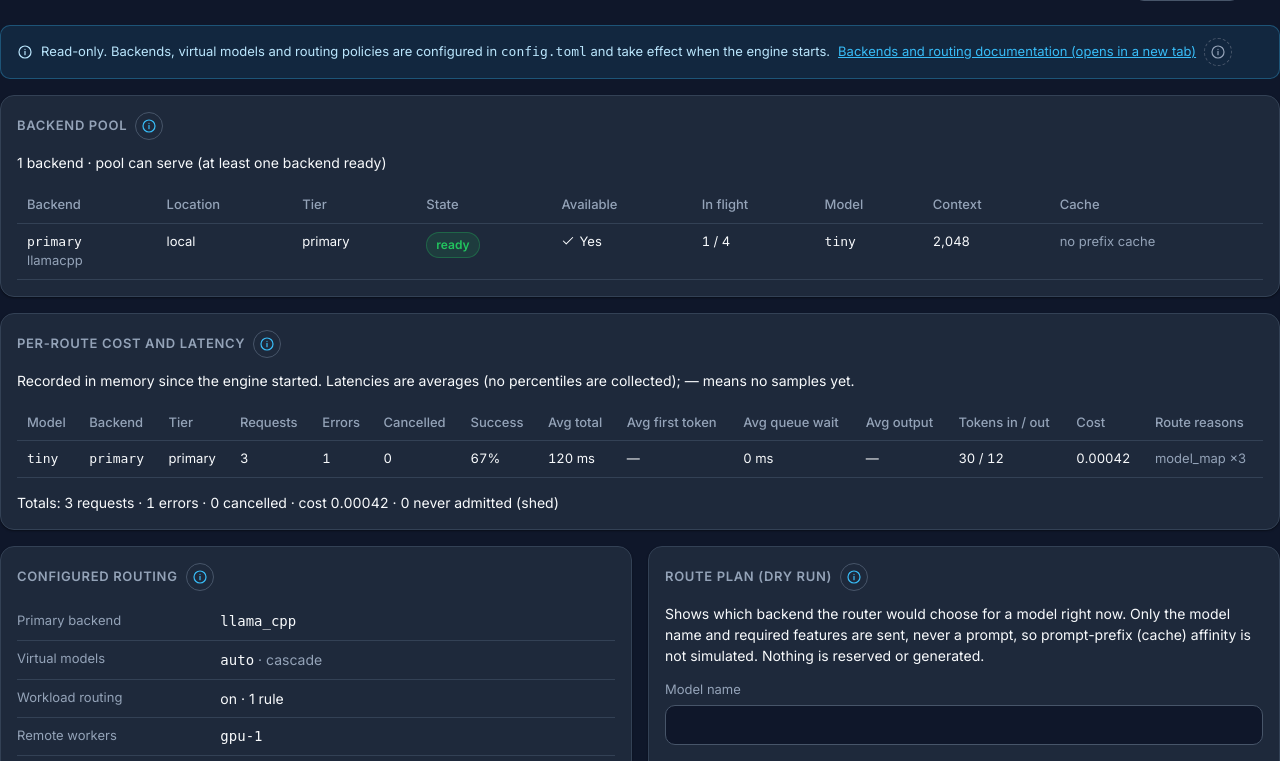
it: Backends & Routing view › says when no backend could take the request and the name is unknown
The width and height of the screenshot is (1280, 761).
Expected: the element named "Backend pool table" is shown, [17,187,1263,280]
Type "nope" into the field labelled "Model name" at (964, 725), box [665,705,1263,745]
Then press Enter
(page scrolled)
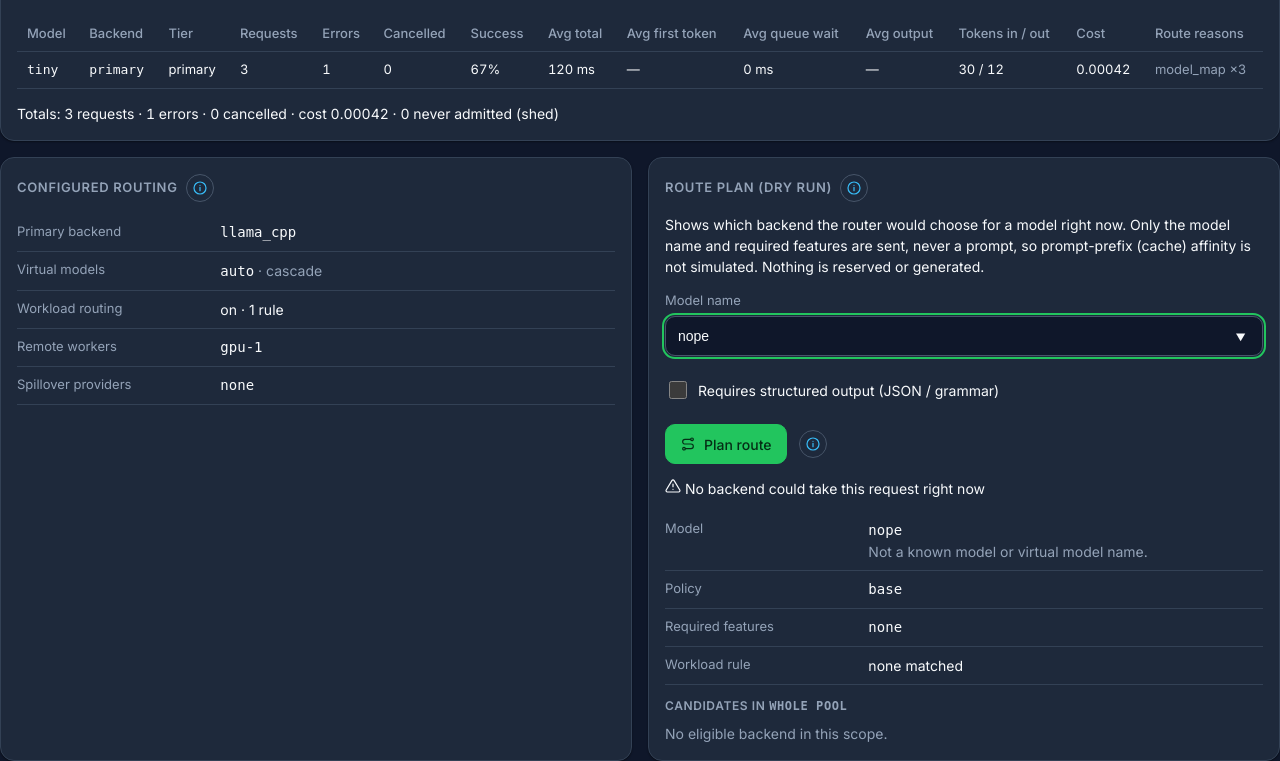
Now the element with test id "route-plan-result" shows "No backend could take this request right now", box [681,480,985,497]
Now the element with test id "route-plan-result" shows "Not a known model or virtual model name.", box [868,543,1148,560]
Now the element with test id "route-plan-result" shows "Candidates in whole pool", box [665,478,1263,744]
